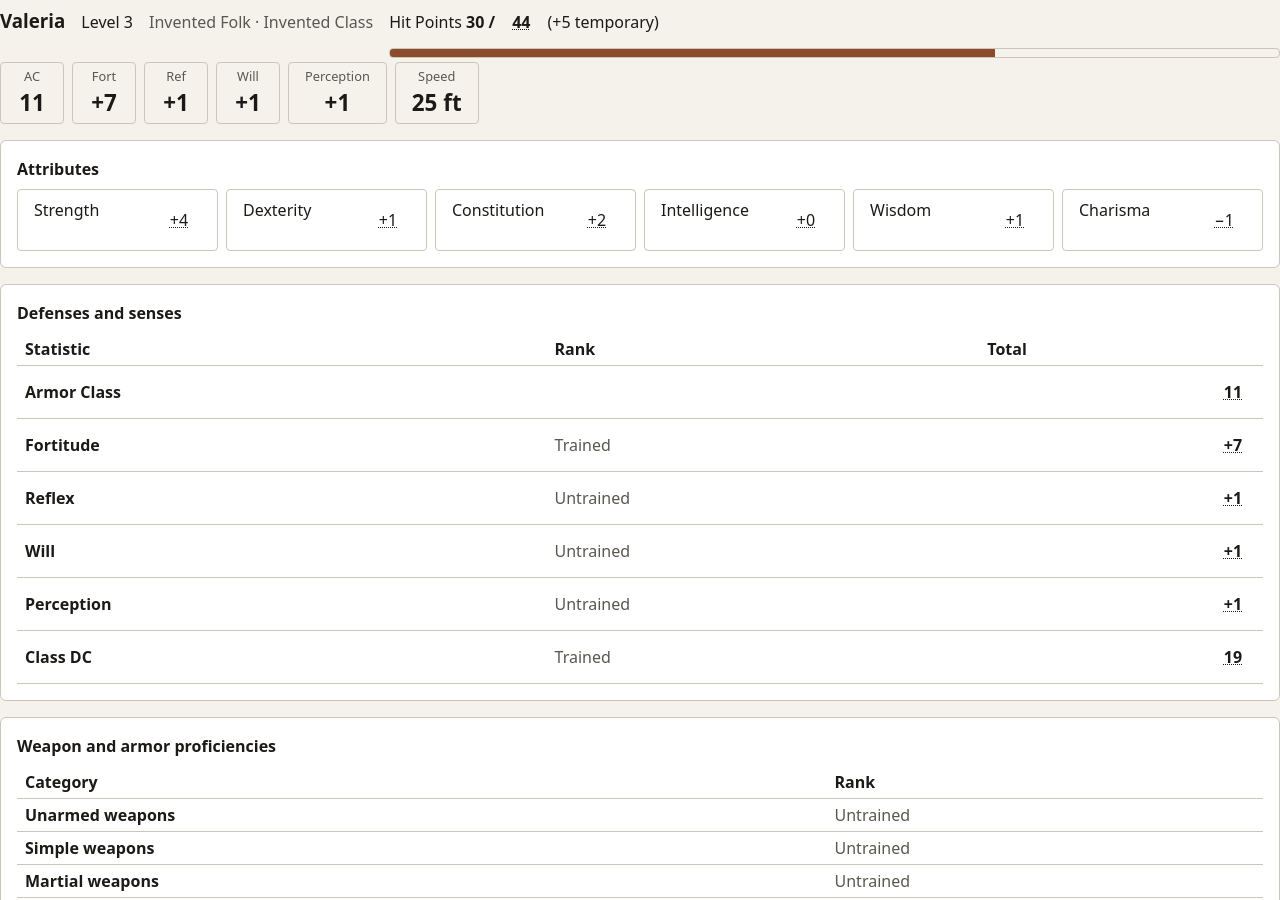
Test: stat breakdowns › opens the maximum hit points breakdown
The width and height of the screenshot is (1280, 900).
Click the button with class "stat-trigger" showing "44" at (521, 22), box [499,0,543,44]
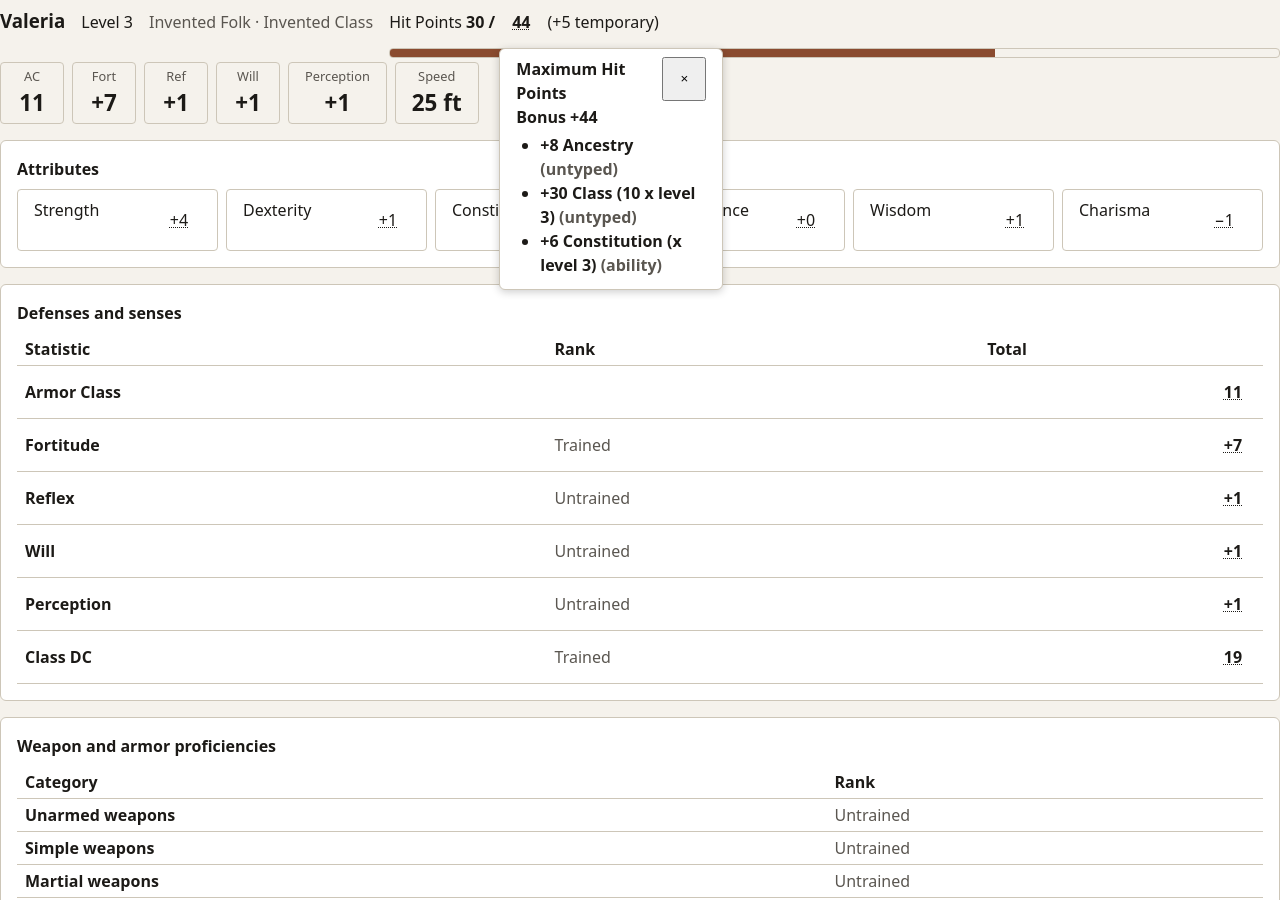
Check: the heading "Maximum Hit Points" is shown, box [516,58,625,104]
Check: the dialog with class "stat-popover" shows "Bonus +44", box [516,106,598,128]
